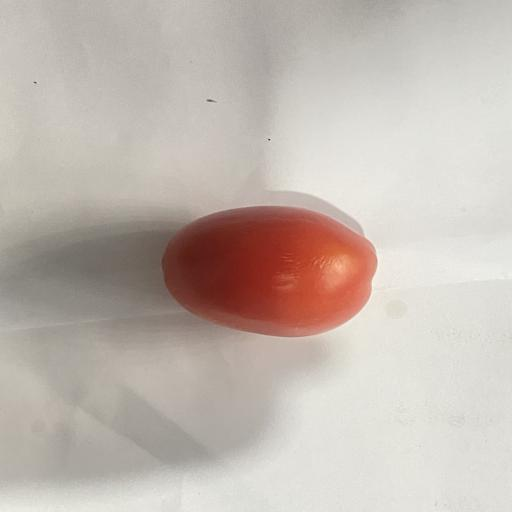overipe: (162, 206, 377, 337)
